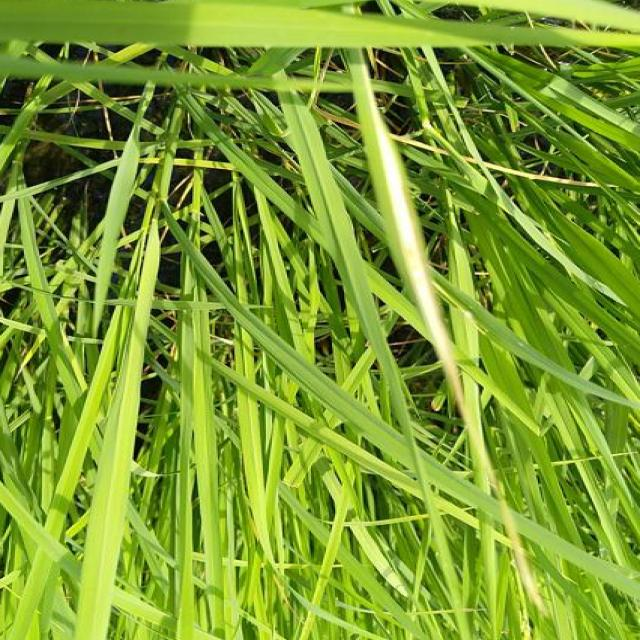Leaf Blight: (365, 72, 544, 611)
